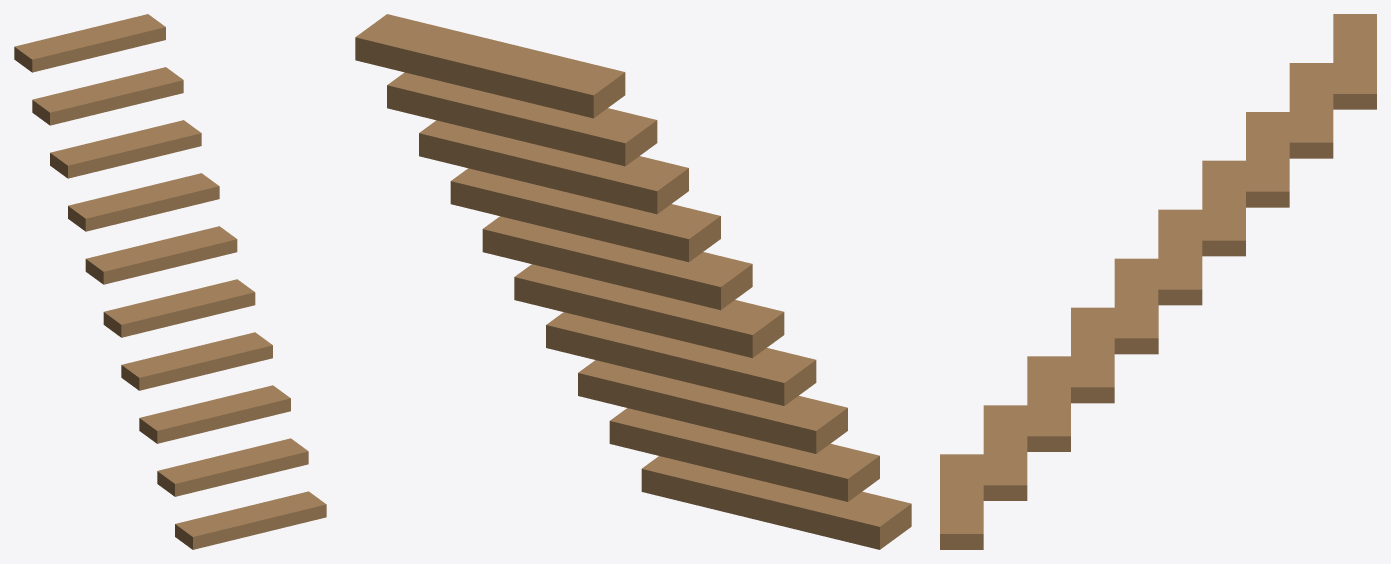
File: floating-stairs-lite.glb
The picture shows the model from 3 angles, left to right: view 1: azimuth 30°, elevation 25°; view 2: azimuth 150°, elevation 25°; view 3: azimuth 270°, elevation 25°; orthographic projection. The views are drawn at different scales.
Visible parts, largest first — view 1: material-0-top; view 2: material-0-top; view 3: material-0-top.
Part boxes in pixels (x1,y1,x2,y2): material-0-top: (14, 14, 326, 549); material-0-top: (355, 14, 911, 549); material-0-top: (940, 14, 1376, 549).
Bounding box in the file's own units: 0.9725 × 2.59 × 2.25.
